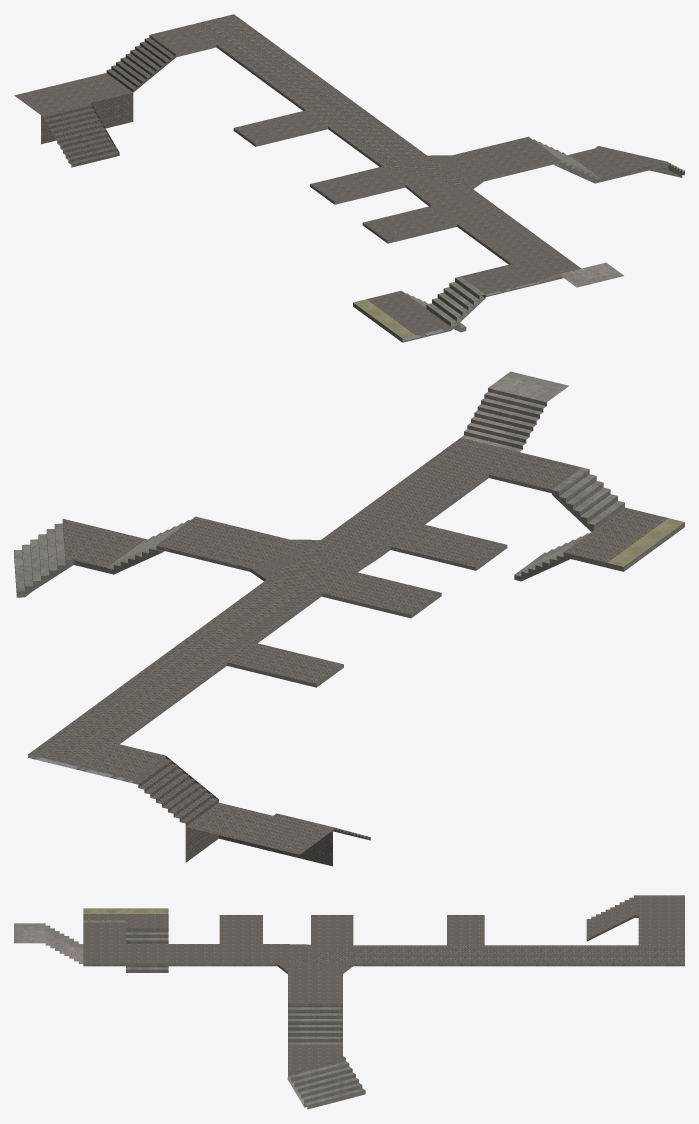
The model's file is a51_genwalkway.obj.
3 views of the same model, one above another, from view 1: azimuth 30°, elevation 25°; view 2: azimuth 150°, elevation 25°; view 3: azimuth 270°, elevation 25° (orthographic). The views are drawn at different scales.
Visible parts, largest first — view 1: a51_genwalkway; view 2: a51_genwalkway; view 3: a51_genwalkway.
Boxes of the visible parts, x1=… form: a51_genwalkway: x1=14, y1=14, x2=684, y2=342; a51_genwalkway: x1=14, y1=371, x2=684, y2=866; a51_genwalkway: x1=14, y1=895, x2=684, y2=1109.
Bounding box in the file's own units: 23.64 × 4.11 × 35.44.
5 materials, 5 textured.
